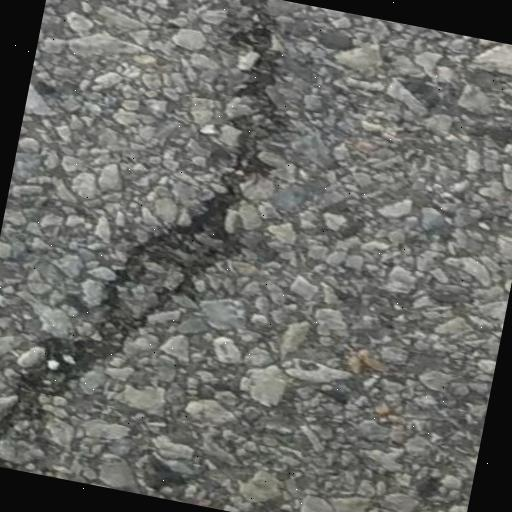spalling: (0, 0, 286, 462)
